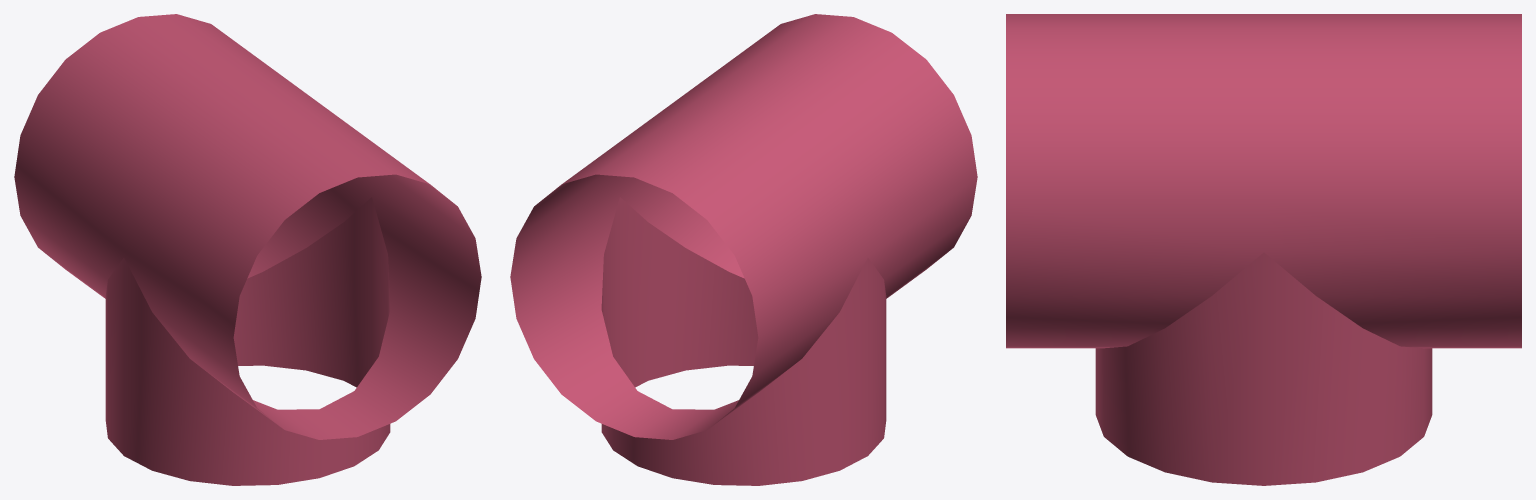
Rendered from SM_Pipes_TDown.fbx.
3 renders of one model, left to right at view 1: azimuth 30°, elevation 25°; view 2: azimuth 150°, elevation 25°; view 3: azimuth 270°, elevation 25°, orthographic. The views are drawn at different scales.
Parts seen in each view (by area): view 1: SM_Pipes_TDown; view 2: SM_Pipes_TDown; view 3: SM_Pipes_TDown.
Part boxes in pixels (box(x1,y1,x2,y2)): SM_Pipes_TDown: box(14, 14, 481, 485); SM_Pipes_TDown: box(510, 14, 977, 485); SM_Pipes_TDown: box(1006, 14, 1521, 485).
Size of the model in its own units: 327 by 413 by 500.
